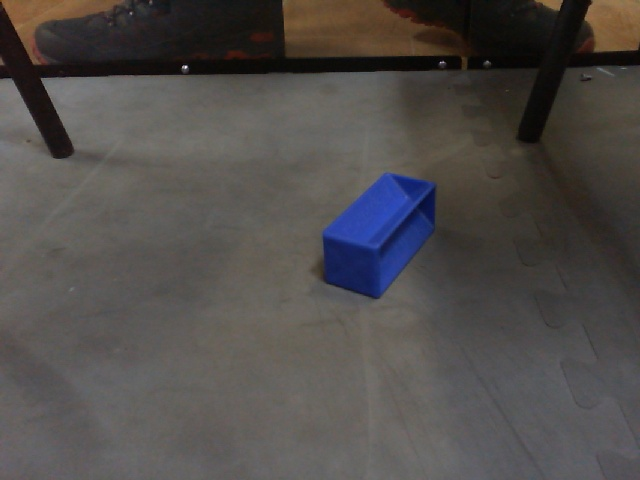BlueSample: (318, 168, 443, 309)
